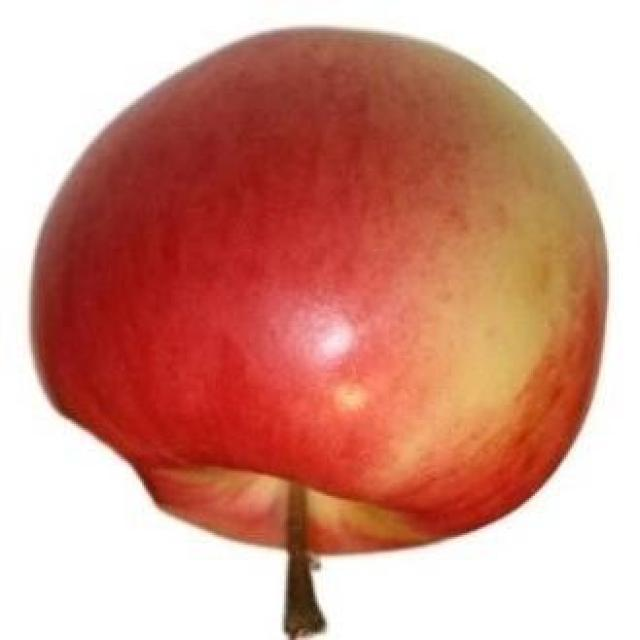Rotten Apple: (24, 21, 604, 556)
